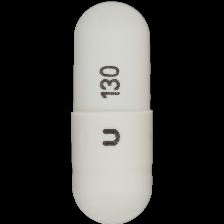61786-266: (0, 0, 224, 224)
